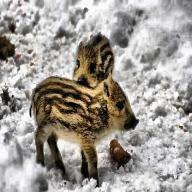boar: (2, 73, 140, 171), (66, 25, 119, 93)
